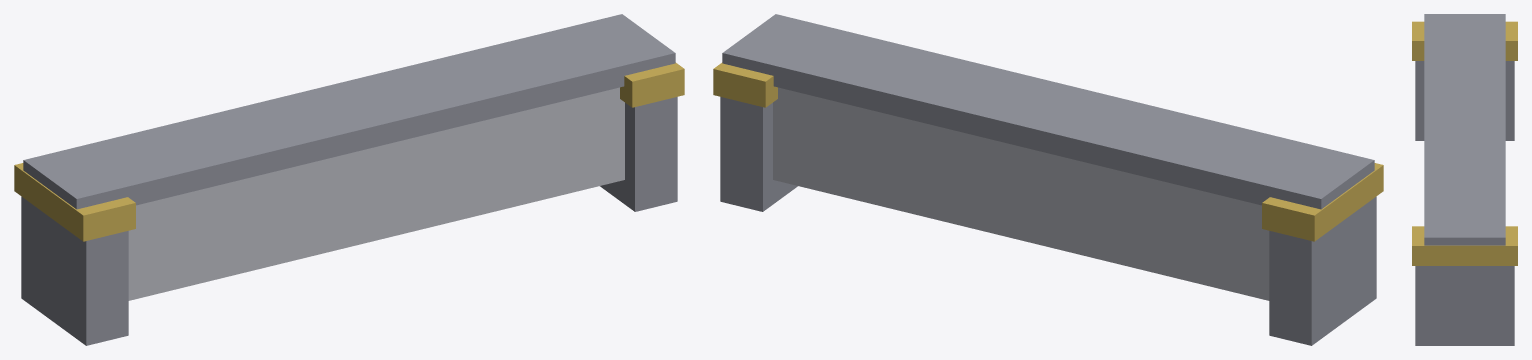
File: beam.glb
3 views of the same model, side by side, from view 1: azimuth 30°, elevation 25°; view 2: azimuth 150°, elevation 25°; view 3: azimuth 270°, elevation 25° (orthographic). The views are drawn at different scales.
Visible parts, largest first — view 1: PangBeamBody; view 2: PangBeamBody; view 3: PangBeamBody.
Part boxes in pixels (x1,y1,x2,y2): PangBeamBody: (14, 14, 684, 345); PangBeamBody: (713, 14, 1383, 345); PangBeamBody: (1412, 14, 1517, 345).
Bounding box in the file's own units: 4.82 × 1.1 × 0.96.
